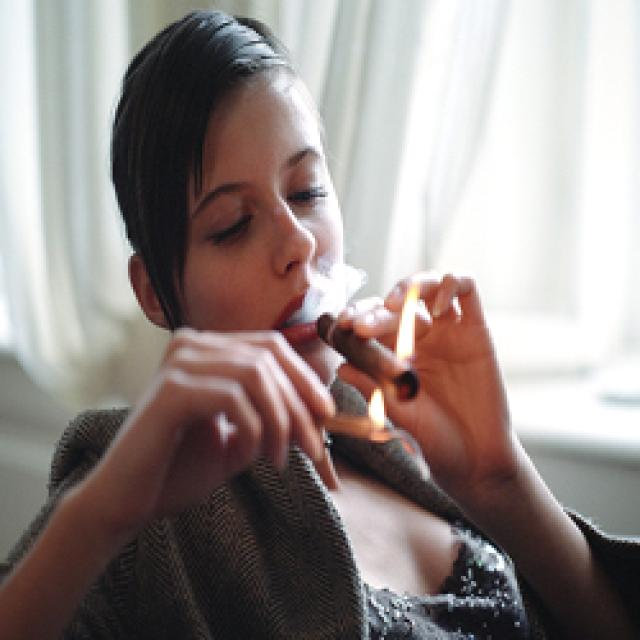Smooking: (306, 276, 432, 410)
